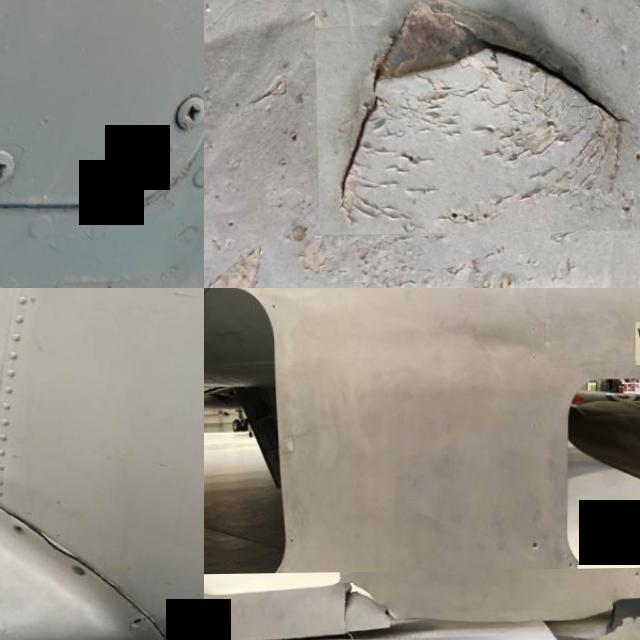Crack: (312, 0, 640, 235), (204, 573, 640, 640), (74, 555, 150, 618), (22, 524, 79, 564), (151, 602, 196, 640)
Missing_Fastener: (126, 618, 144, 632), (10, 524, 23, 538)
